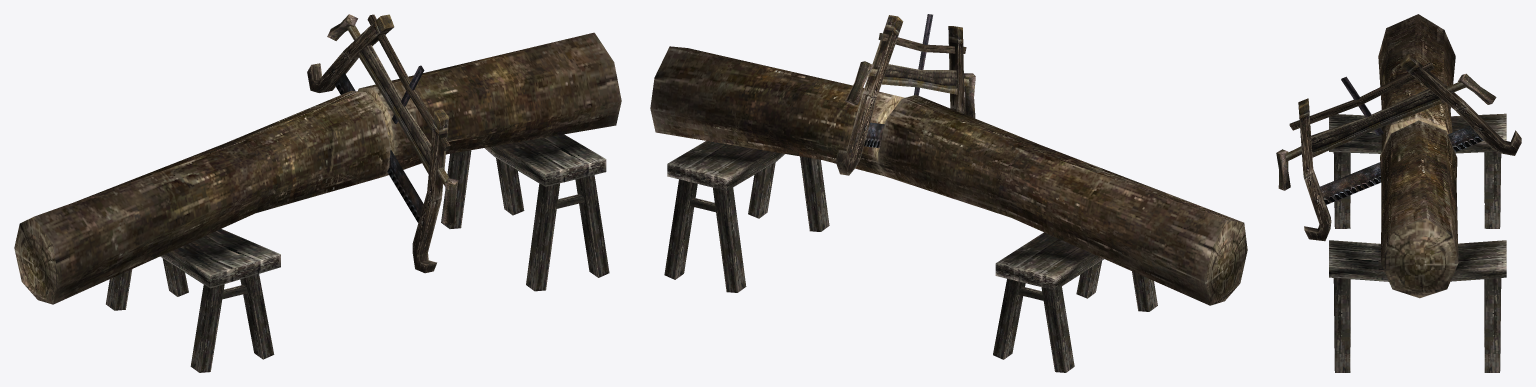
The model's file is OZ_22_kt_tool01A.glb.
3 views of the same model, side by side, from view 1: azimuth 30°, elevation 25°; view 2: azimuth 150°, elevation 25°; view 3: azimuth 270°, elevation 25° (orthographic). The views are drawn at different scales.
Visible parts, largest first — view 1: OM_22_kt_tool01A; view 2: OM_22_kt_tool01A; view 3: OM_22_kt_tool01A.
Boxes of the visible parts, x1,y1,x2,y2 form: OM_22_kt_tool01A: [14, 14, 621, 372]; OM_22_kt_tool01A: [650, 14, 1247, 372]; OM_22_kt_tool01A: [1276, 14, 1521, 372].
Bounding box in the file's own units: 9.73 × 4.49 × 4.15.
Materials: 1 (1 with a texture image).
